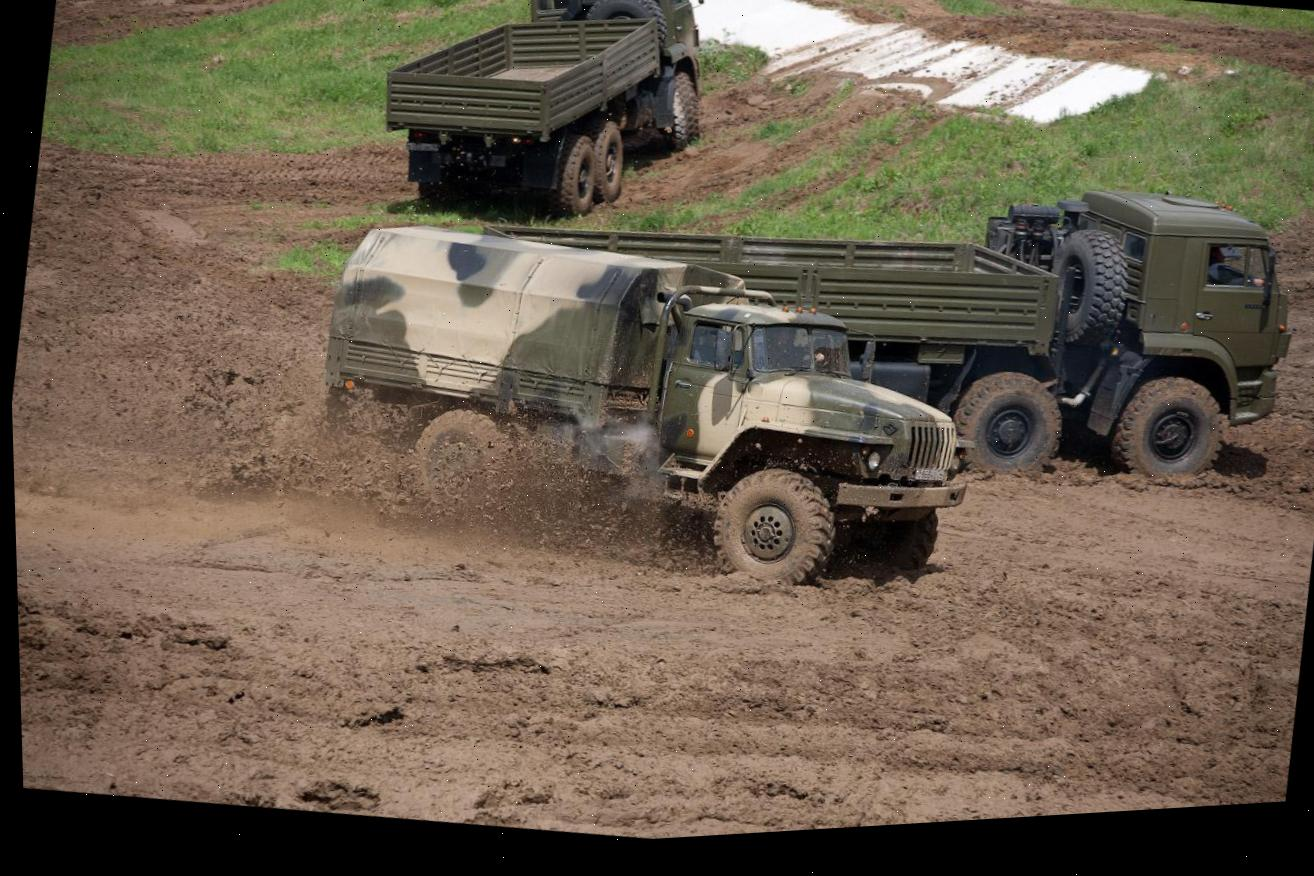truck: (450, 87, 1314, 537), (294, 178, 1001, 640), (364, 0, 727, 249)
